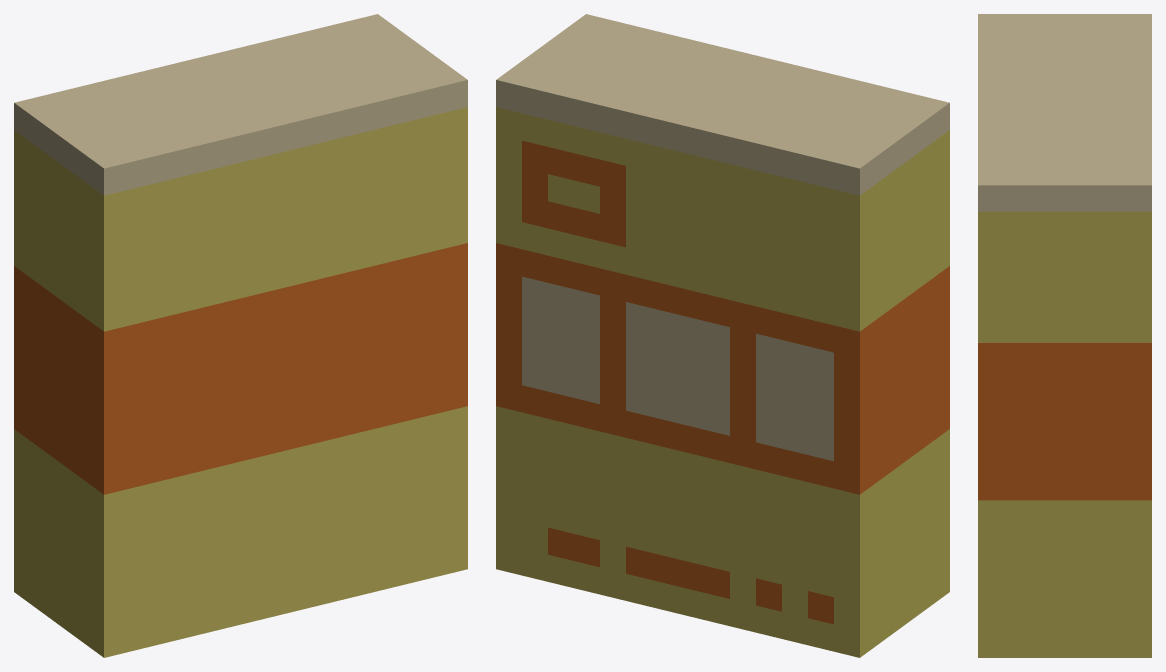
File: poroshock.obj
3 views of the same model, side by side, from view 1: azimuth 30°, elevation 25°; view 2: azimuth 150°, elevation 25°; view 3: azimuth 270°, elevation 25° (orthographic). The views are drawn at different scales.
Size of the model in its own units: 1.4 by 1.8 by 0.6.
Materials: 1 (1 with a texture image).
